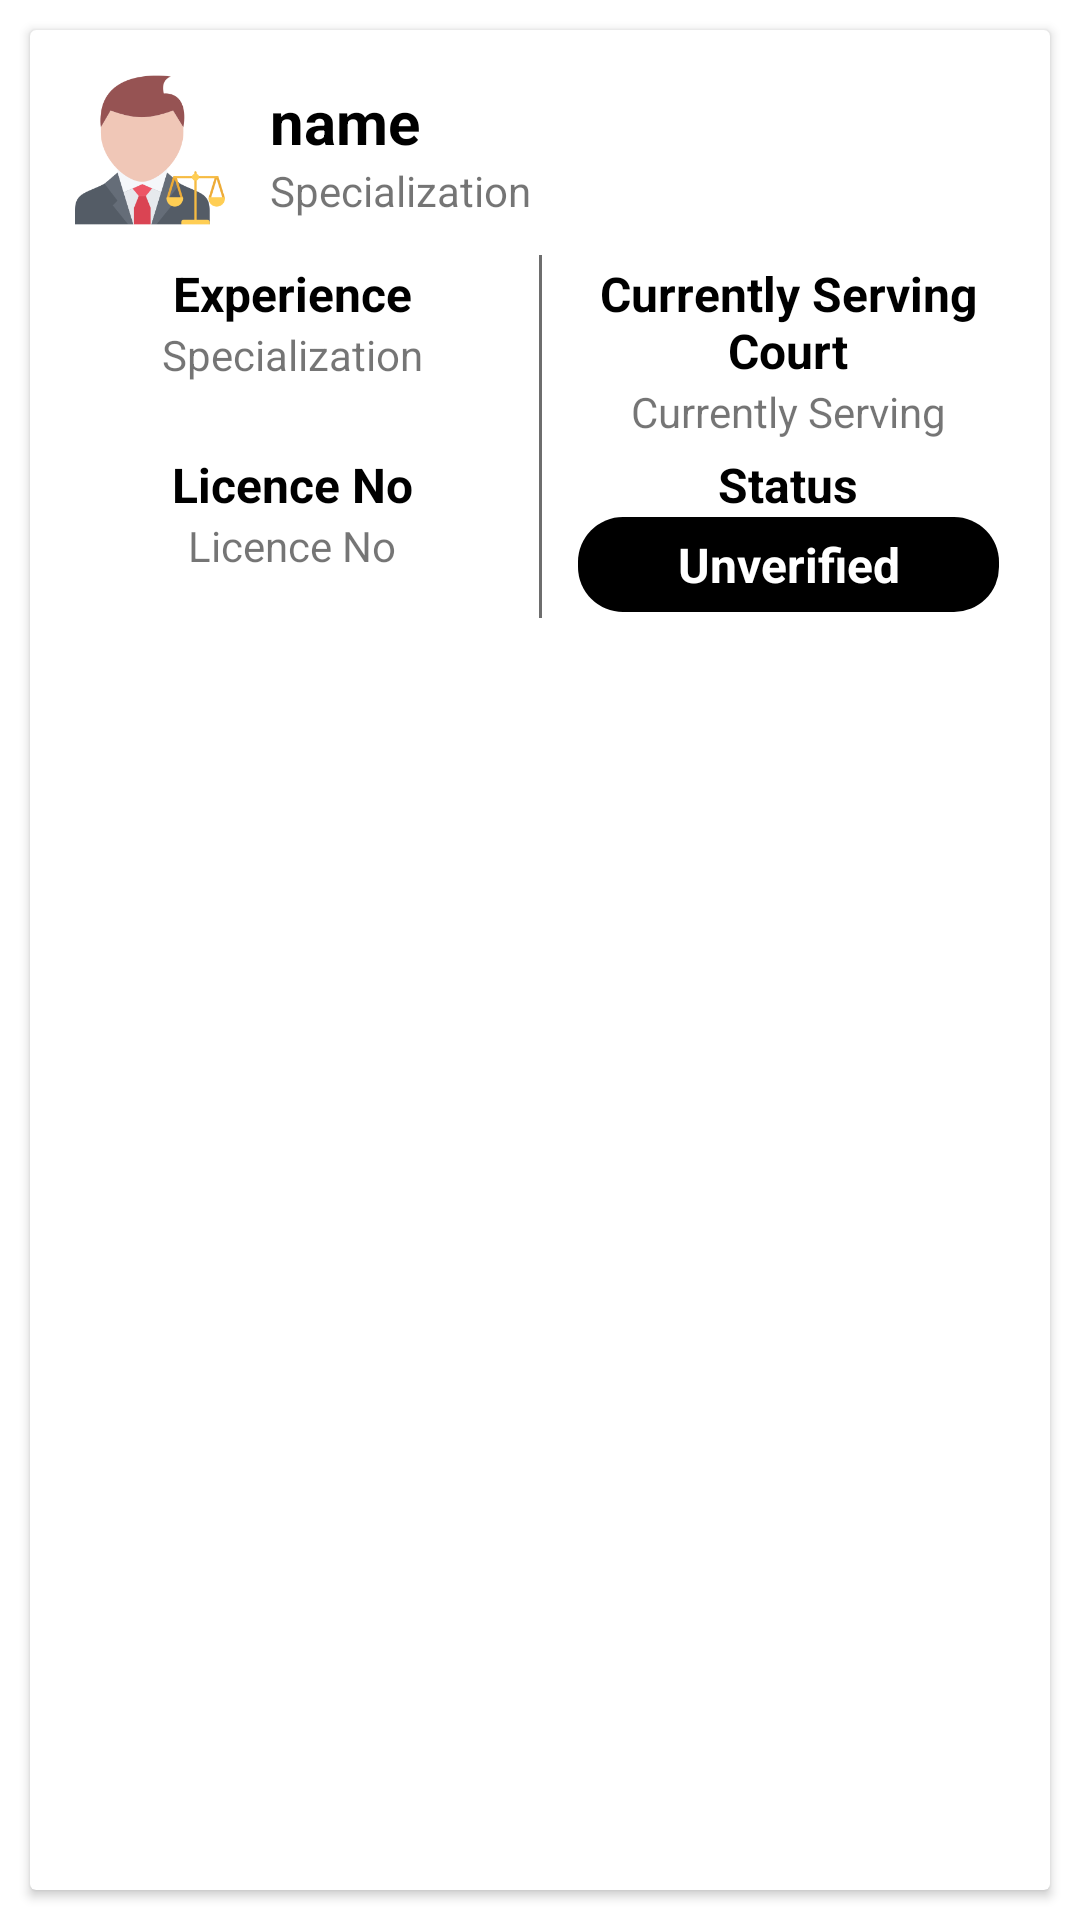

Where icons sit on this 1080px x 1920px app screen, as (x1, y1, x2, y2):
lawyer: (75, 75, 225, 225)
